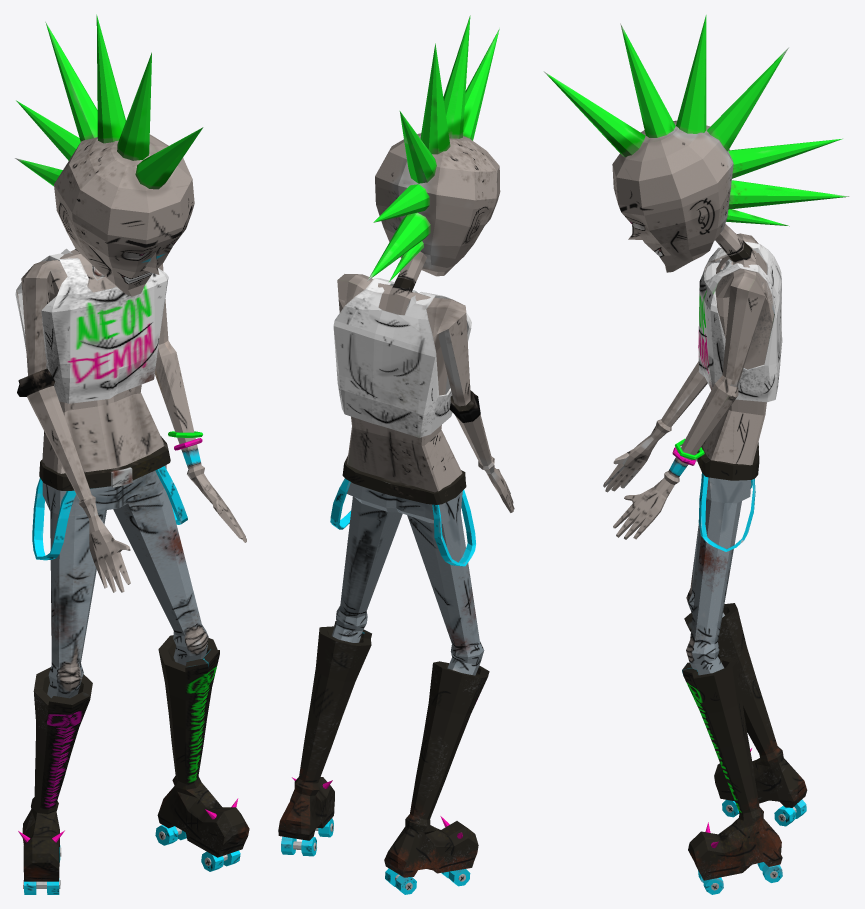
Rendered from punkAnimation_000025.obj.
3 renders of one model, left to right at view 1: azimuth 30°, elevation 25°; view 2: azimuth 150°, elevation 25°; view 3: azimuth 270°, elevation 25°, orthographic. The views are drawn at different scales.
Visible parts, largest first — view 1: Cube.004_Cube.003; view 2: Cube.004_Cube.003; view 3: Cube.004_Cube.003.
Part boxes in pixels (x1=…): Cube.004_Cube.003: x1=15, y1=14, x2=249, y2=894; Cube.004_Cube.003: x1=278, y1=15, x2=514, y2=894; Cube.004_Cube.003: x1=543, y1=15, x2=849, y2=894.
Bounding box in the file's own units: 1.86 × 7.41 × 2.52.
